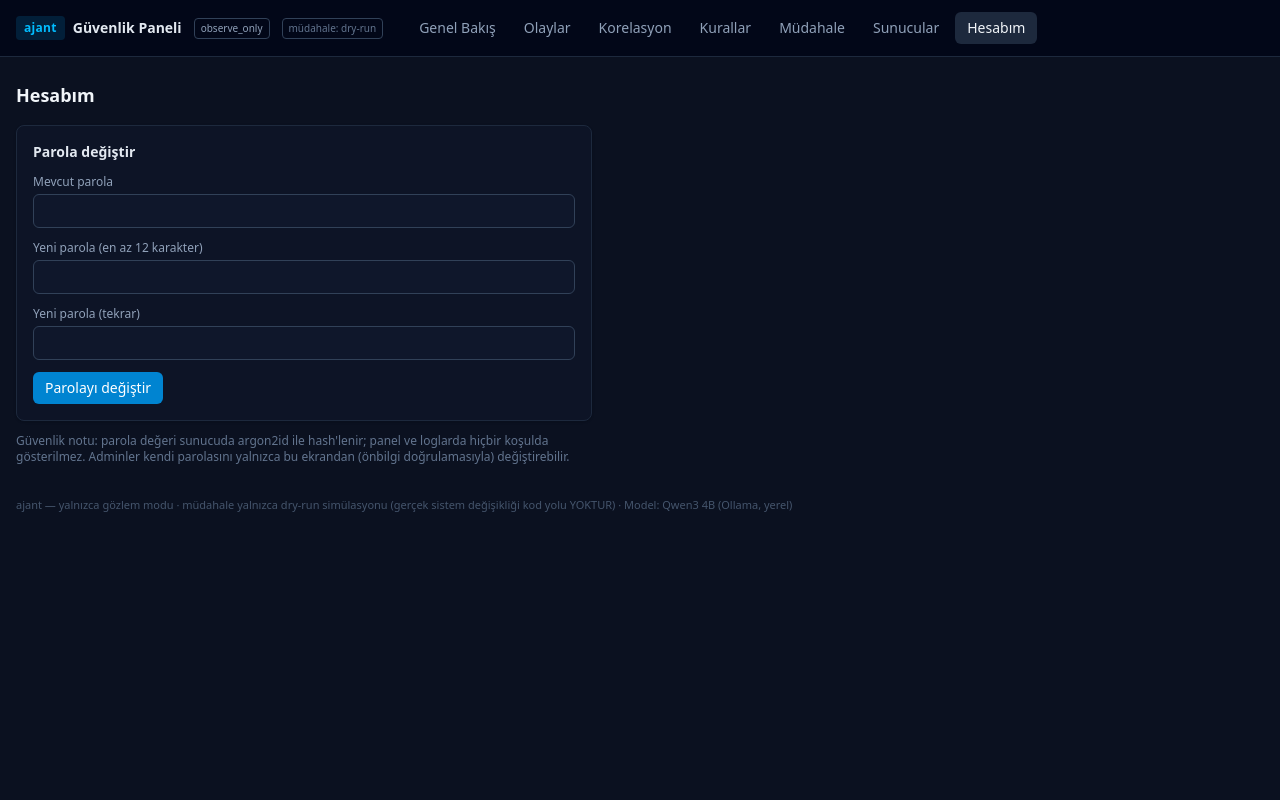
Scenario: Hesabım sayfası (Faz 08) › yeni parola ile tekrarı eşleşmiyorsa hata verir ve istek atılmaz
Type "eski-parola-1234" into the password field labelled "Mevcut parola" at point(304, 211), box x1=33 y1=194 x2=575 y2=228
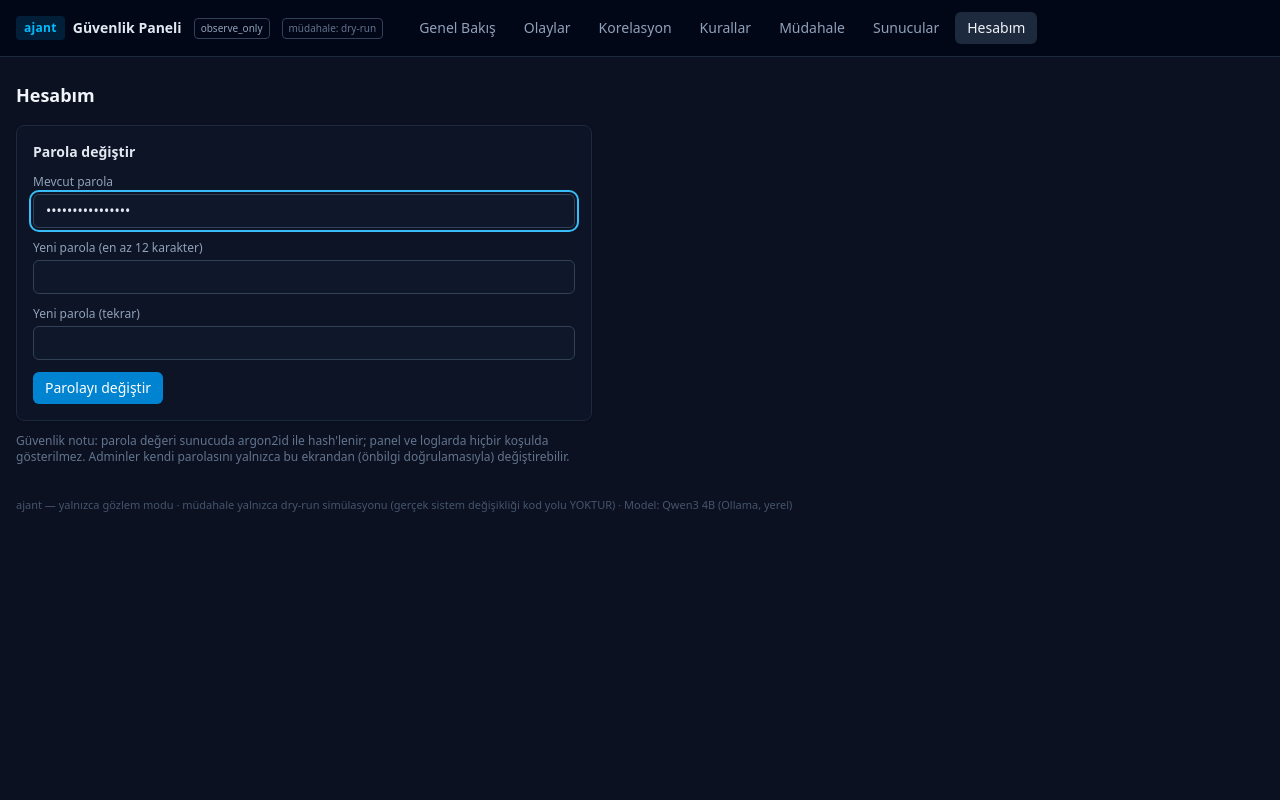
Type "yeni-parola-12345" into the password field labelled "Yeni parola (en az 12 karakter)" at point(304, 277), box x1=33 y1=260 x2=575 y2=294
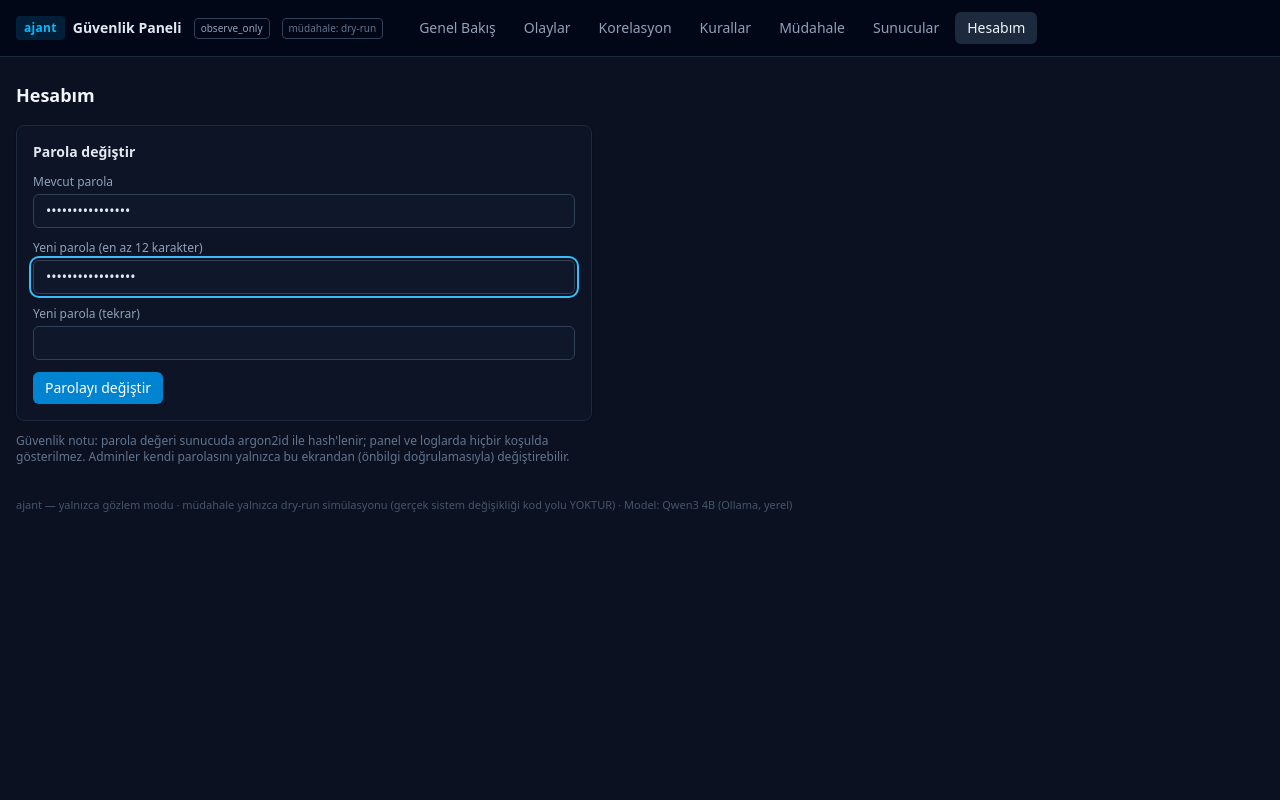
Type "farkli-parola-98765" into the password field labelled "Yeni parola (tekrar)" at point(304, 343), box x1=33 y1=326 x2=575 y2=360
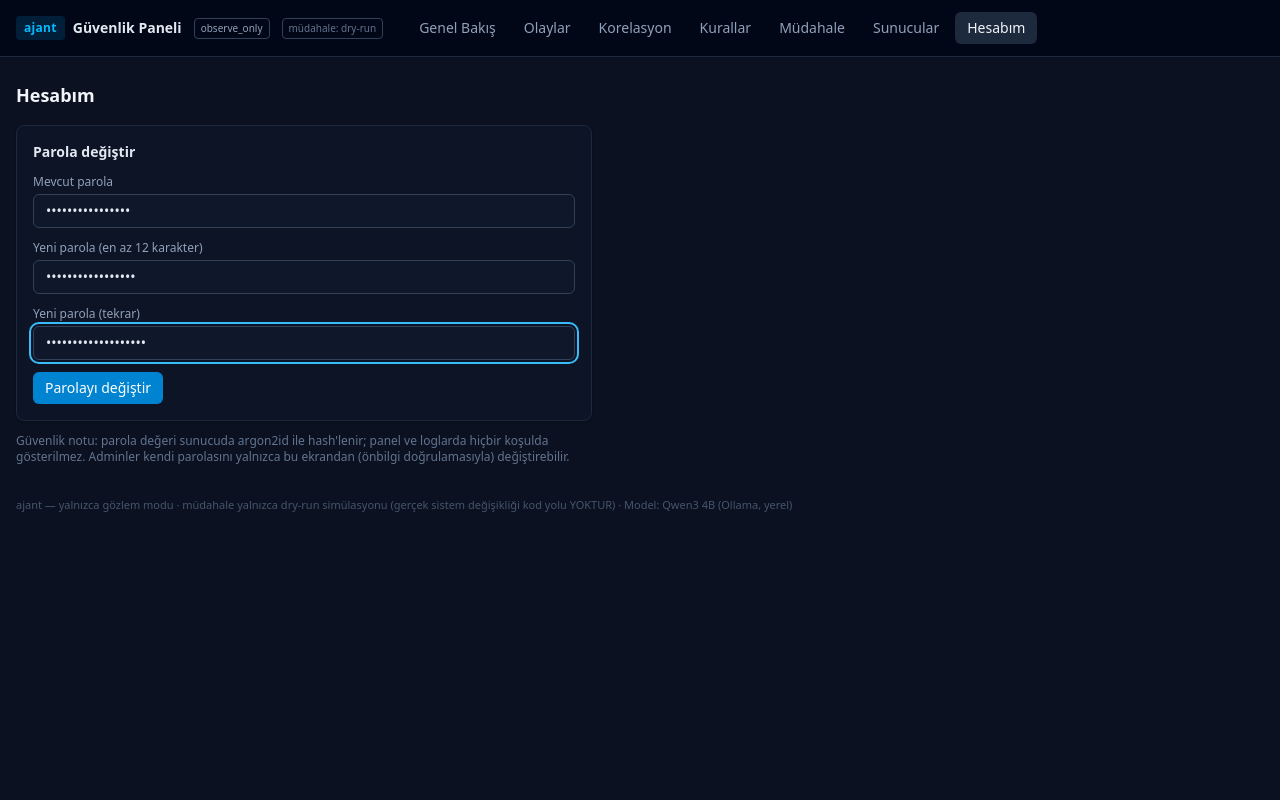
Click the button "Parolayı değiştir" at point(98, 388), box x1=33 y1=372 x2=163 y2=404
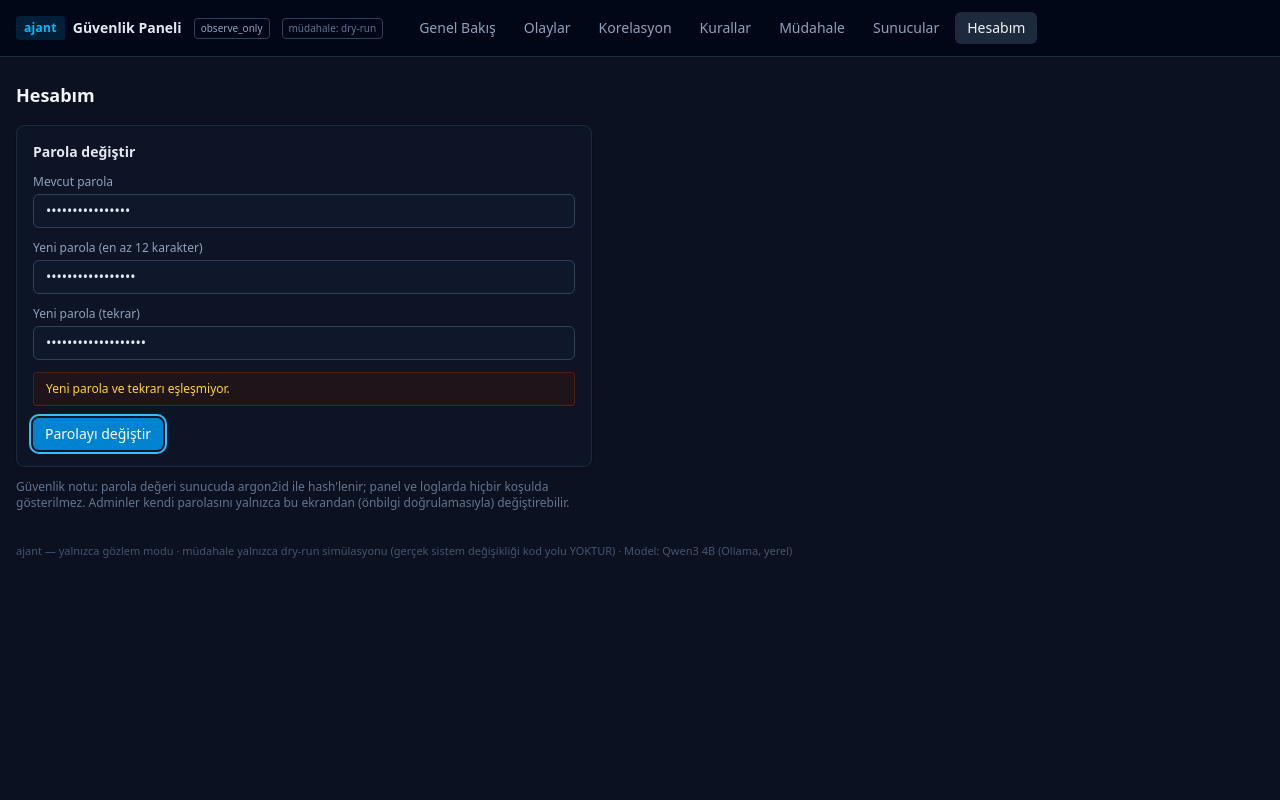
Expected: the message with test id "hesabim-error" shows "eşleşmiyor", x1=46 y1=380 x2=230 y2=397
